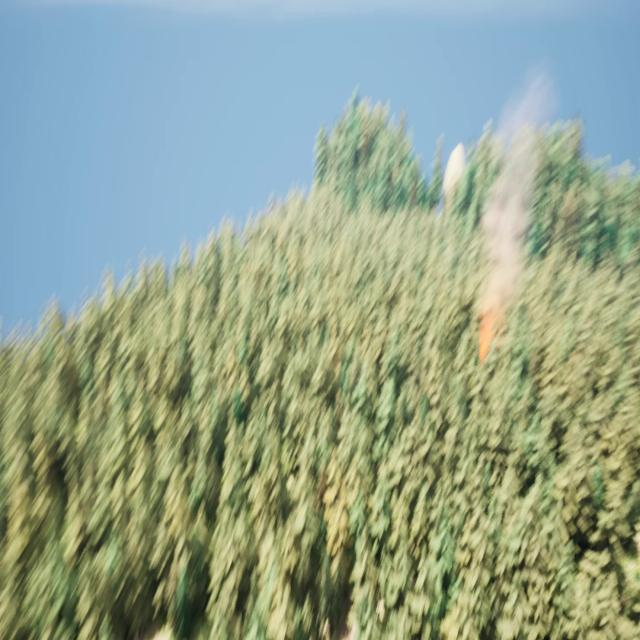smoke: (470, 68, 558, 344)
